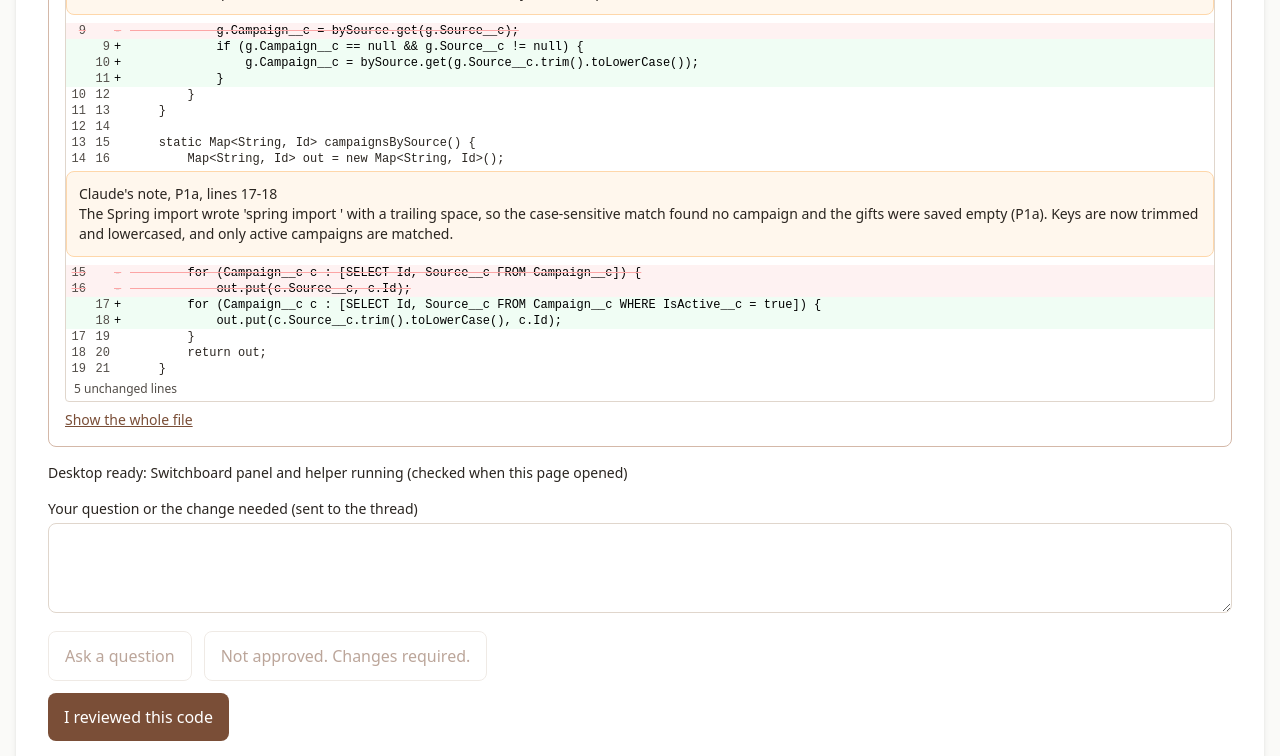
the code review page, on sample data › the desktop is asked again at the click; not ready, nothing is sent
(page scrolled)
Click the button with test id "review-reviewed": (138, 717) 48,693 -> 229,741
(page scrolled)
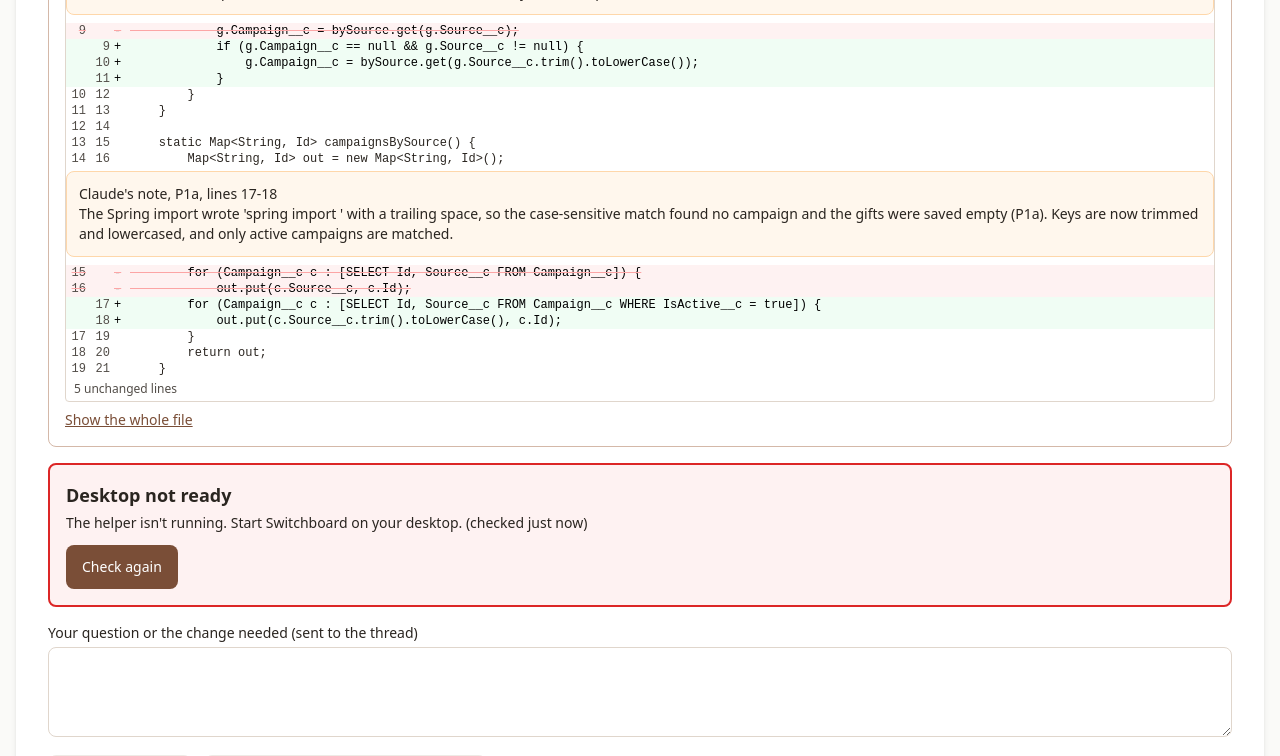
Expected: the element with test id "run-desktop-not-ready" is shown, 48,463 -> 1232,607
